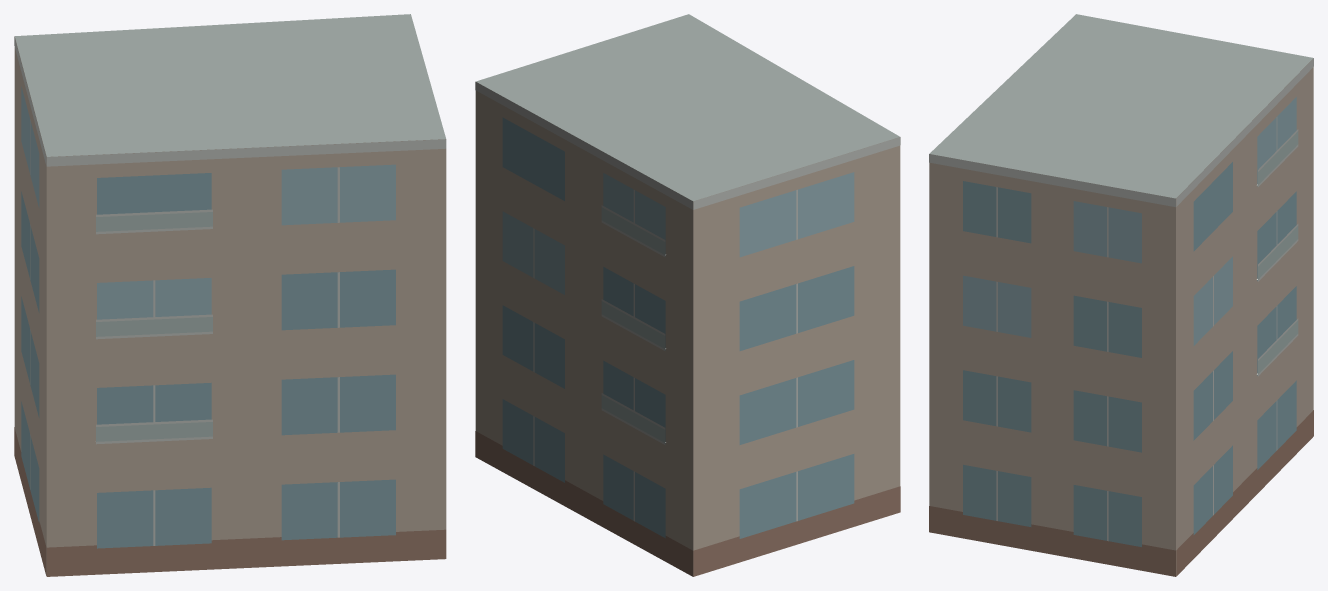
File: survey-upis-32565137.glb
The picture shows the model from 3 angles, left to right: view 1: azimuth 30°, elevation 25°; view 2: azimuth 150°, elevation 25°; view 3: azimuth 270°, elevation 25°; orthographic projection. The views are drawn at different scales.
Visible parts, largest first — view 1: survey-upis-32565137.tmp; view 2: survey-upis-32565137.tmp; view 3: survey-upis-32565137.tmp.
Boxes of the visible parts, x1,y1,x2,y2 form: survey-upis-32565137.tmp: [14, 14, 446, 576]; survey-upis-32565137.tmp: [475, 14, 900, 576]; survey-upis-32565137.tmp: [929, 14, 1313, 576].
Bounding box in the file's own units: 11.04 × 10.55 × 9.73.
